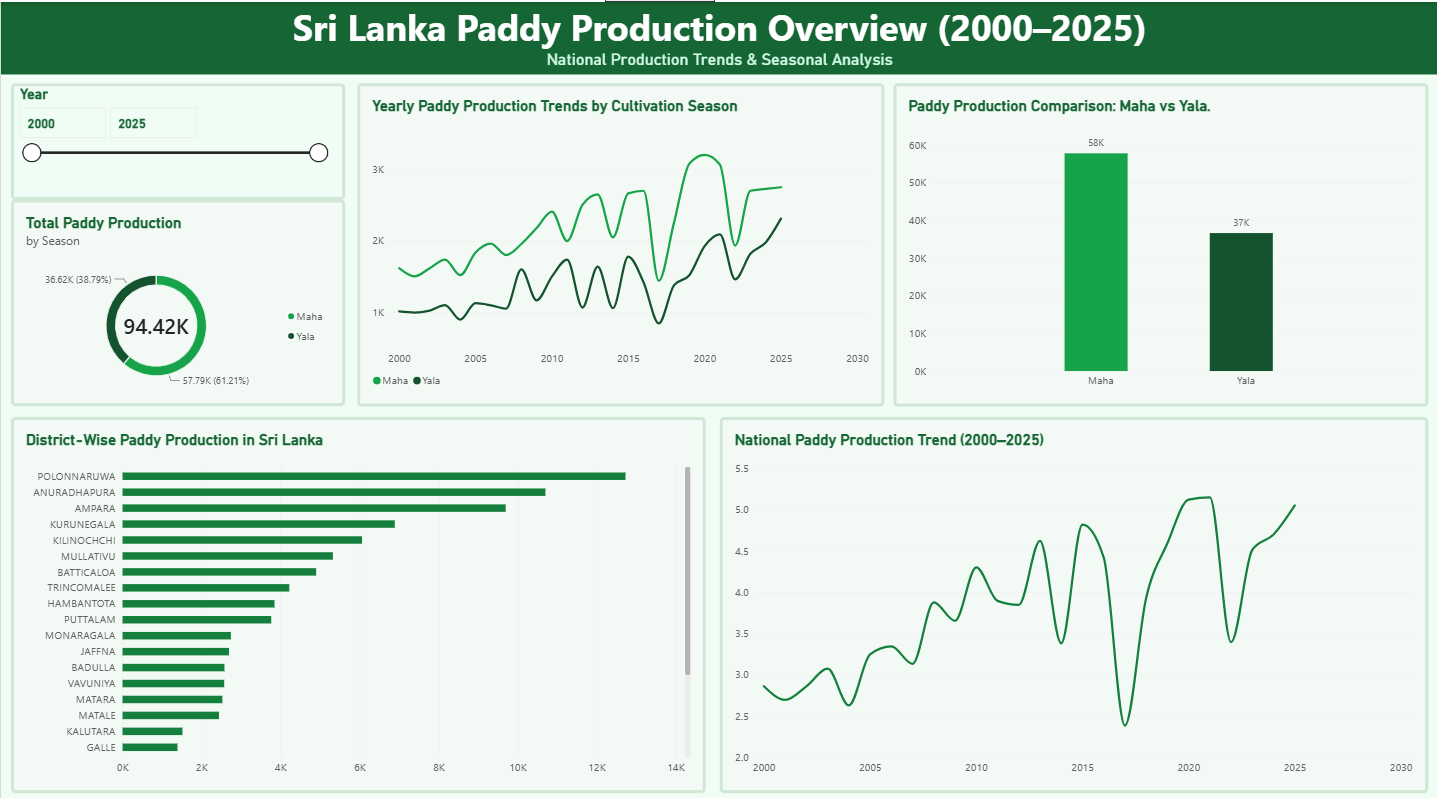

The page's visual inventory and layout, read from the dashboard file:
{"tool":"powerbi","page":{"name":"National Overview.","canvas":[1920,1080],"ordinal":0},"visuals":[{"type":"lineChart","title":"National Paddy Production Trend (2000–2025)","fields":{"Category":["National Paddy Production.period"],"Y":["Sum(National Paddy Production.Total Paddy Production (Million MT))"]},"box":[960,554,946,502],"z":0},{"type":"slicer","title":"Year","fields":{"Values":["Years.Year"]},"box":[14,108,446,156],"z":1000},{"type":"clusteredBarChart","title":"District-Wise Paddy Production in Sri Lanka","fields":{"Category":["Paddy Production.District"],"Y":["Sum(Paddy Production.Production)"]},"box":[14,554,928,502],"z":2000},{"type":"clusteredColumnChart","title":"Paddy Production Comparison: Maha vs Yala.","fields":{"Category":["Paddy Production.Season"],"Y":["Sum(Paddy Production.Production)"]},"box":[1192,108,714,432],"z":3000},{"type":"lineChart","title":"Yearly Paddy Production Trends by Cultivation Season","fields":{"Category":["Paddy Production.Year"],"Series":["Paddy Production.Season"],"Y":["Sum(Paddy Production.Production)"]},"box":[476.1,108.9,704,431.7],"z":4000},{"type":"textbox","box":[109,0,300,300],"z":5000},{"type":"textbox","box":[0,0,1920.4,96.8],"z":6000},{"type":"donutChart","fields":{"Category":["Paddy Production.Season"],"Y":["Paddy Production.Total Paddy Production"]},"box":[14,264,446,276],"z":7000},{"type":"textbox","box":[100,100,300,300],"z":8000}]}

Visuals, with their boxes in screenshot pixels (x1, y1, x2, y2), scaled from the page's 1920x1080 canvas onto the 1437x798 screenshot:
"National Paddy Production Trend (2000–2025)" lineChart: bbox(718, 409, 1427, 780)
"Year" slicer: bbox(10, 80, 344, 195)
"District-Wise Paddy Production in Sri Lanka" clusteredBarChart: bbox(10, 409, 705, 780)
"Paddy Production Comparison: Maha vs Yala." clusteredColumnChart: bbox(892, 80, 1427, 399)
"Yearly Paddy Production Trends by Cultivation Season" lineChart: bbox(356, 80, 883, 399)
textbox: bbox(82, 0, 306, 222)
textbox: bbox(0, 0, 1436, 72)
donutChart - Paddy Production.Season x Paddy Production.Total Paddy Production: bbox(10, 195, 344, 399)
textbox: bbox(75, 74, 299, 296)
